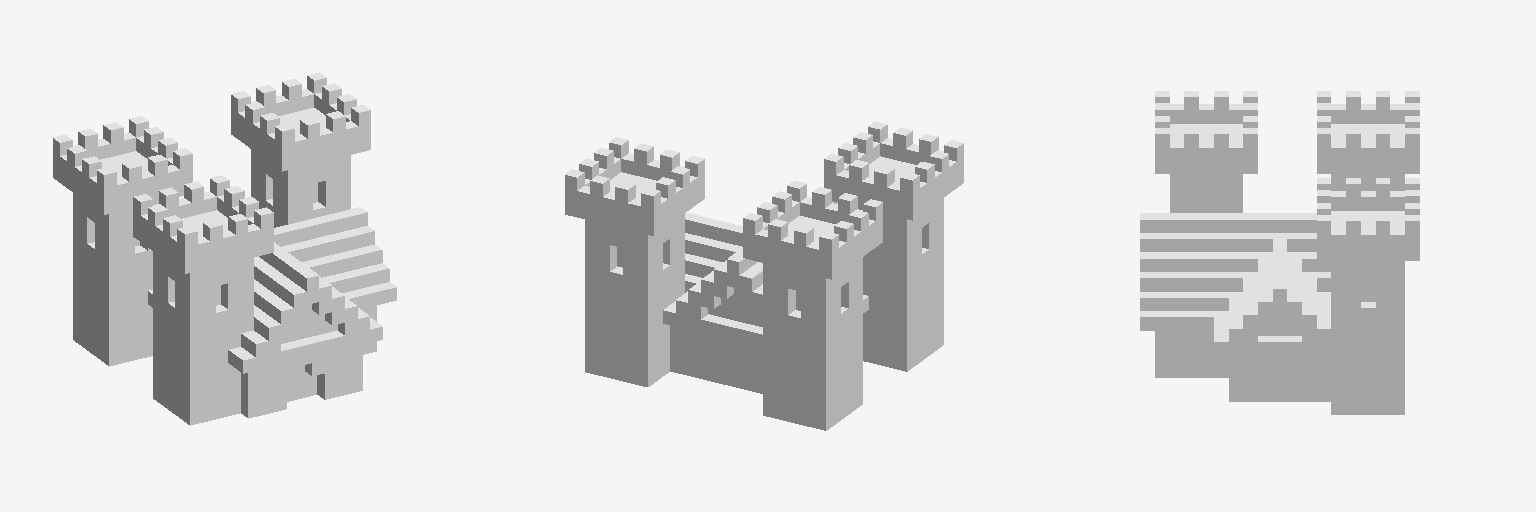
File: SwampCastle.obj
The picture shows the model from 3 angles: view 1: azimuth 30°, elevation 25°; view 2: azimuth 150°, elevation 25°; view 3: azimuth 270°, elevation 25°; orthographic projection.
Parts seen in each view (by area): view 1: object 1; view 2: object 1; view 3: object 1.
Boxes of the visible parts, box(x1,y1,x2,y2) form: object 1: box(53, 72, 396, 425); object 1: box(565, 121, 963, 430); object 1: box(1140, 91, 1419, 414).
Bounding box in the file's own units: 2.1 × 1.5 × 1.9.